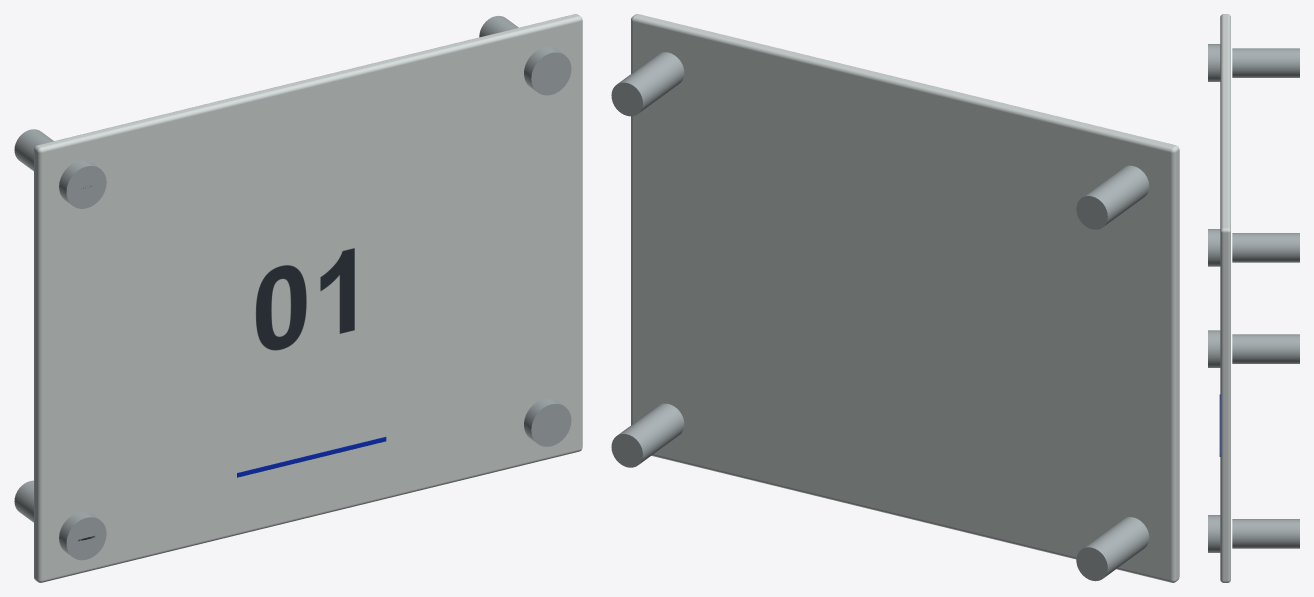
File: doorPlaque-1.glb
The picture shows the model from 3 angles, left to right: view 1: azimuth 30°, elevation 25°; view 2: azimuth 150°, elevation 25°; view 3: azimuth 270°, elevation 25°; orthographic projection. The views are drawn at different scales.
Visible parts, largest first — view 1: doorPlaque_PMMA 4 mm, doorPlaque_Satin stainless standoff, DoorPlaque_Label, doorPlaque_EDS selected finish; view 2: doorPlaque_PMMA 4 mm, doorPlaque_Satin stainless standoff; view 3: doorPlaque_Satin stainless standoff, doorPlaque_PMMA 4 mm.
Part boxes in pixels (box(x1,y1,x2,y2)): doorPlaque_PMMA 4 mm: box(34, 14, 582, 582); doorPlaque_Satin stainless standoff: box(14, 15, 571, 560); DoorPlaque_Label: box(256, 248, 354, 350); doorPlaque_EDS selected finish: box(237, 437, 386, 477); doorPlaque_PMMA 4 mm: box(631, 14, 1179, 582); doorPlaque_Satin stainless standoff: box(611, 52, 1149, 581); doorPlaque_Satin stainless standoff: box(1208, 44, 1299, 552); doorPlaque_PMMA 4 mm: box(1220, 14, 1230, 582).
Bounding box in the file's own units: 0.19 × 0.145 × 0.034.
5 materials, 1 textured.
